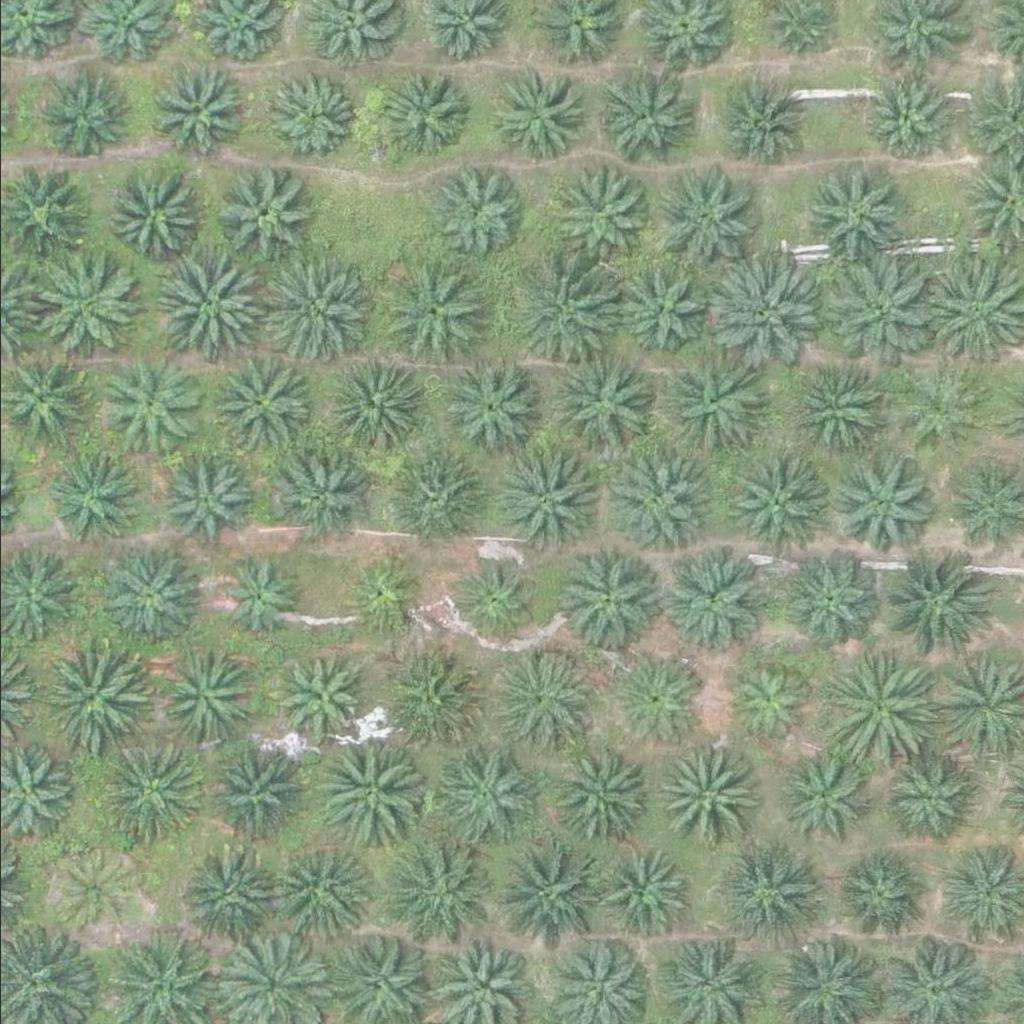Kelapa_Sawit: (504, 253, 618, 366), (368, 257, 482, 370), (870, 546, 984, 659), (702, 252, 815, 365), (257, 250, 370, 363), (656, 350, 769, 463), (315, 728, 428, 841), (34, 638, 147, 751), (21, 247, 134, 360), (150, 253, 263, 366), (818, 656, 932, 768), (815, 258, 928, 370), (546, 350, 659, 462), (603, 448, 716, 560), (488, 444, 601, 556), (488, 648, 601, 760), (488, 837, 601, 949), (92, 736, 205, 848), (483, 65, 584, 165), (212, 165, 313, 265), (419, 160, 520, 260), (544, 163, 645, 263), (652, 171, 753, 271), (802, 165, 903, 265), (605, 256, 706, 356), (324, 361, 425, 461), (441, 361, 542, 461), (786, 359, 887, 459), (721, 450, 822, 550), (377, 445, 478, 545), (268, 450, 369, 550), (557, 548, 658, 648), (381, 660, 482, 760), (646, 743, 747, 843), (434, 742, 535, 842), (205, 733, 306, 833), (274, 836, 375, 936), (374, 846, 475, 946), (719, 842, 820, 942), (153, 645, 254, 745), (93, 543, 194, 643), (103, 353, 204, 453), (707, 76, 807, 176), (591, 69, 691, 169), (370, 69, 470, 169), (211, 357, 311, 457), (829, 461, 929, 561), (781, 548, 881, 648), (660, 550, 760, 650), (549, 748, 649, 848), (178, 837, 278, 937), (103, 167, 203, 267), (38, 70, 138, 170), (147, 62, 247, 162), (272, 72, 360, 160), (342, 554, 430, 642), (455, 554, 543, 642), (274, 649, 362, 737), (722, 663, 810, 751), (47, 846, 135, 934), (48, 453, 136, 541), (157, 452, 245, 540), (863, 80, 952, 167), (892, 367, 981, 454), (210, 549, 298, 636), (611, 658, 699, 745), (883, 752, 971, 839), (776, 756, 864, 843), (602, 847, 690, 934), (841, 850, 929, 937)
